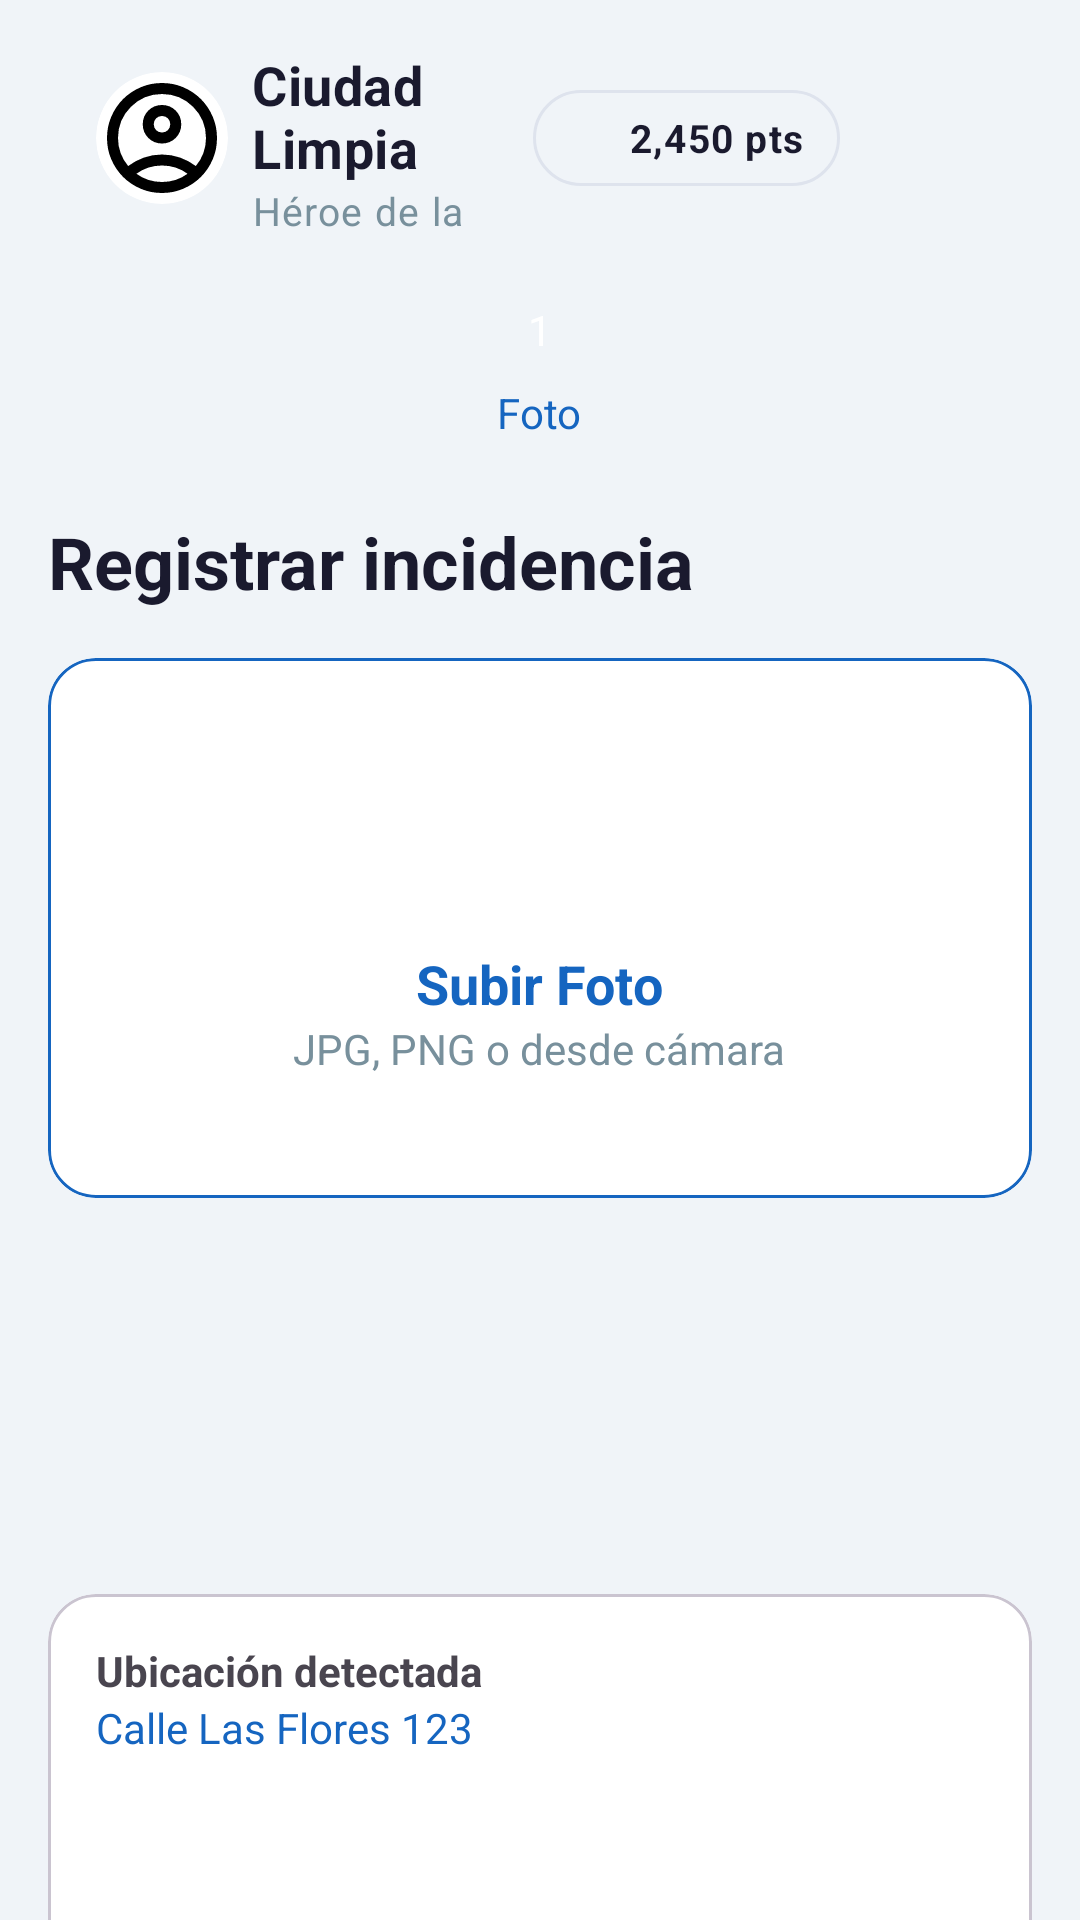

Screen size 1080x1920. Icon name, then its box in pixels as (x1, y1, x2, y2):
Foto de perfil: (96, 72, 228, 204)
